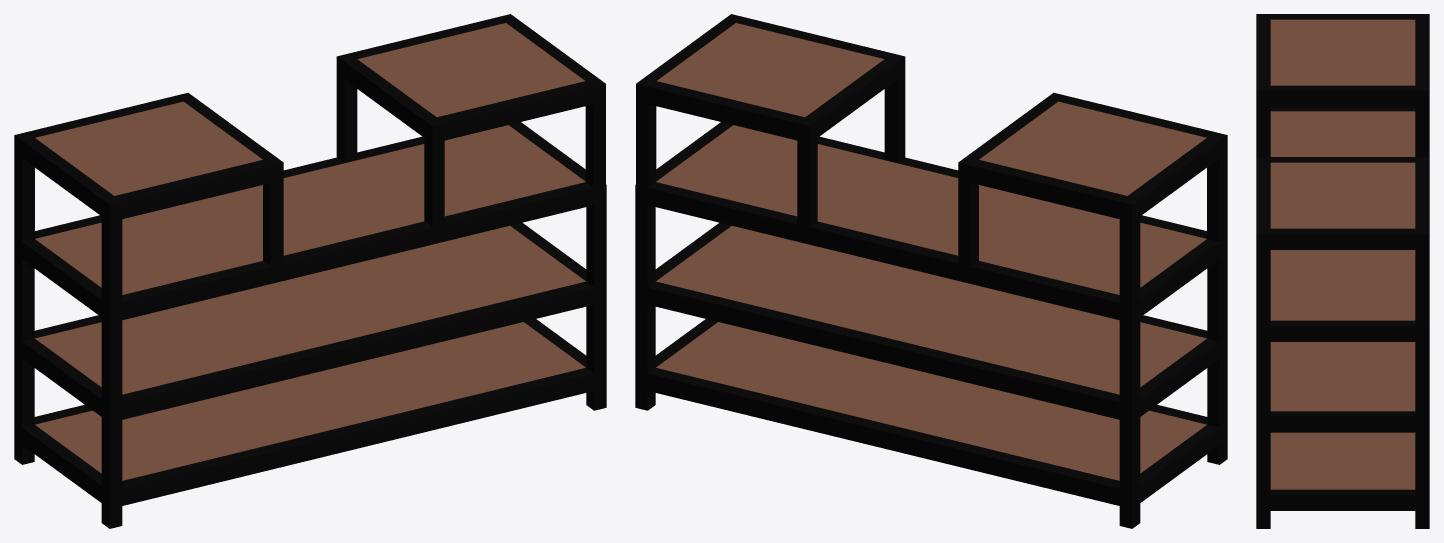
File: 3_Shelf.fbx
The picture shows the model from 3 angles, left to right: view 1: azimuth 30°, elevation 25°; view 2: azimuth 150°, elevation 25°; view 3: azimuth 270°, elevation 25°; orthographic projection. The views are drawn at different scales.
Visible parts, largest first — view 1: 3_Shelfs; view 2: 3_Shelfs; view 3: 3_Shelfs.
Part boxes in pixels (x1=…): 3_Shelfs: x1=14, y1=14, x2=606, y2=528; 3_Shelfs: x1=635, y1=14, x2=1227, y2=528; 3_Shelfs: x1=1256, y1=14, x2=1429, y2=528.
Bounding box in the file's own units: 3.01 × 1.87 × 1.
